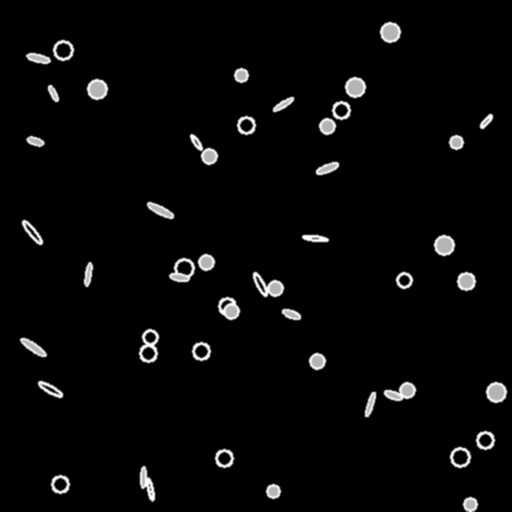pseudomonas: (20, 219, 44, 245), (19, 336, 47, 358), (146, 201, 174, 219), (37, 380, 63, 398), (251, 272, 269, 296), (272, 96, 294, 112), (364, 391, 376, 417), (316, 161, 338, 175), (281, 307, 301, 321), (478, 113, 494, 129), (26, 53, 50, 63), (383, 389, 403, 401), (189, 134, 203, 150), (145, 478, 155, 500), (47, 84, 59, 102), (26, 135, 44, 147), (302, 234, 328, 242), (84, 262, 92, 286), (170, 272, 188, 282), (140, 467, 146, 487)
synechocystis: (435, 236, 453, 254), (487, 383, 505, 401), (451, 448, 469, 466), (54, 41, 72, 59), (346, 78, 364, 96), (88, 80, 106, 98), (175, 259, 193, 277), (381, 23, 399, 41), (477, 432, 493, 448), (238, 117, 254, 133), (52, 476, 68, 492), (193, 343, 209, 359), (216, 450, 232, 466), (140, 345, 156, 361), (219, 298, 235, 314), (458, 273, 474, 289), (333, 102, 349, 118), (202, 149, 216, 163), (310, 354, 324, 368), (199, 255, 213, 269), (268, 281, 282, 295), (397, 273, 411, 287), (320, 119, 334, 133), (400, 383, 414, 397), (224, 304, 238, 318), (143, 330, 157, 344), (267, 485, 279, 497), (235, 69, 247, 81), (450, 136, 462, 148), (464, 498, 476, 510)
